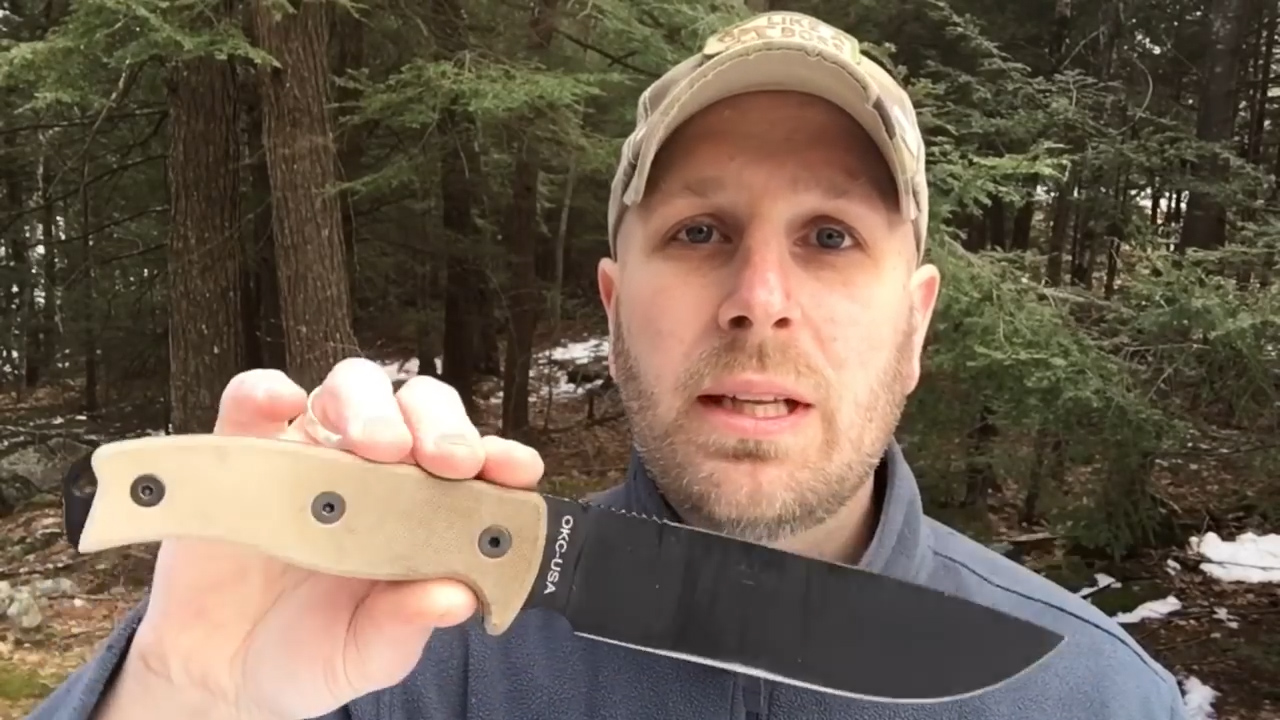knife: (398, 361, 1071, 703)
